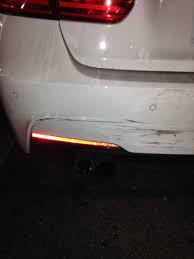rear-bumper-dent: (2, 15, 193, 186)
